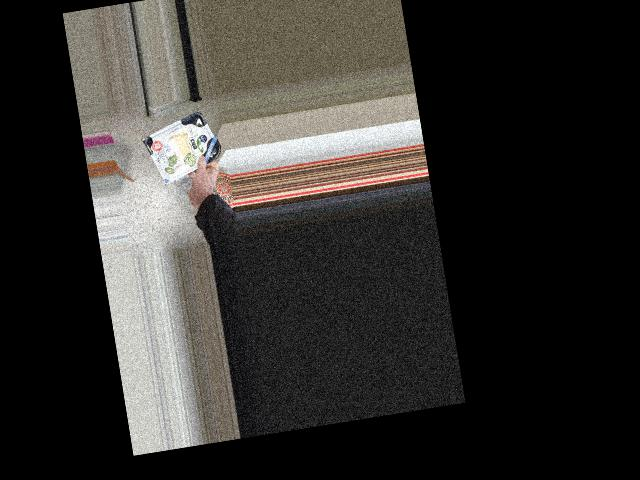cheese: (149, 119, 217, 175)
